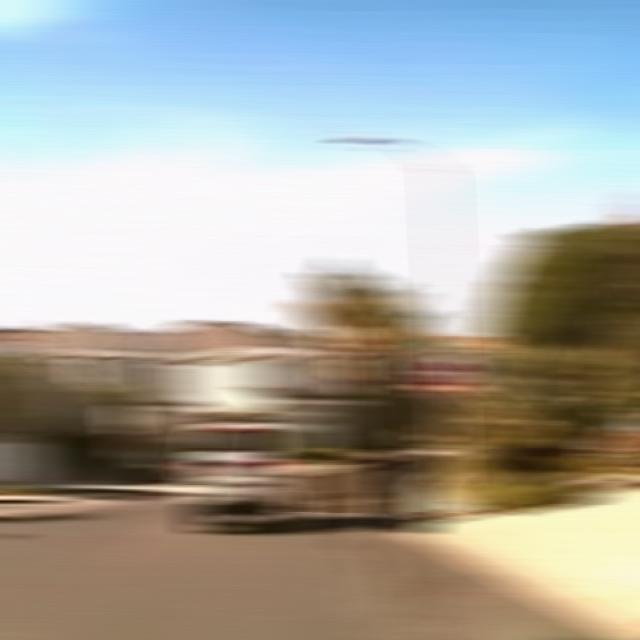stop: (426, 359, 468, 392)
